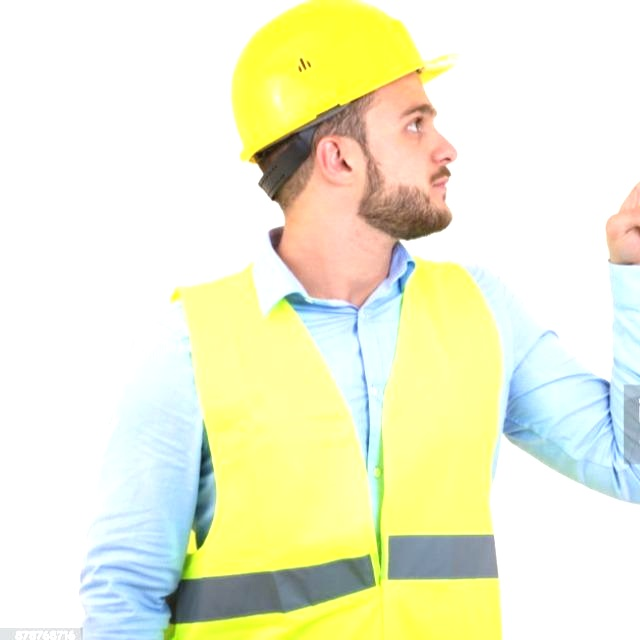Con_Casco: (230, 0, 462, 236)
Con_Chaleco: (168, 256, 508, 640)
